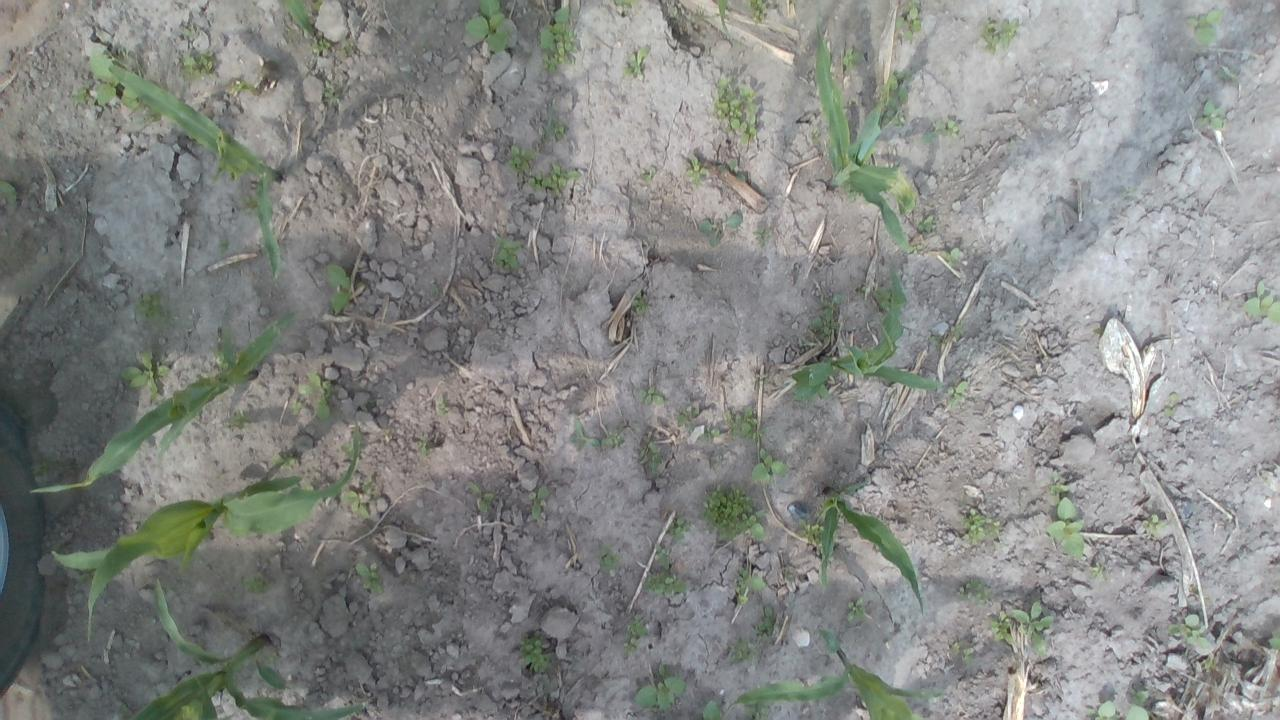Maize: (49, 427, 362, 652), (27, 311, 296, 493), (106, 62, 286, 279), (124, 577, 367, 720), (786, 264, 949, 402), (812, 25, 910, 252), (724, 626, 915, 720), (814, 488, 924, 614), (282, 0, 316, 38), (282, 0, 314, 28), (716, 0, 732, 31)
Weeds: (701, 485, 762, 542), (714, 70, 758, 144), (538, 6, 580, 71), (120, 348, 170, 402), (1048, 495, 1086, 561), (466, 1, 512, 50), (1171, 614, 1216, 658), (1012, 604, 1050, 650), (1086, 693, 1150, 720), (634, 676, 684, 710), (300, 371, 334, 420), (958, 507, 998, 546), (528, 164, 584, 191), (1245, 280, 1280, 322), (981, 18, 1018, 56), (90, 52, 116, 104), (329, 264, 354, 316), (699, 214, 742, 244), (736, 568, 768, 608), (1186, 8, 1222, 43), (646, 565, 686, 594), (896, 0, 922, 41), (726, 407, 760, 438), (753, 448, 784, 481), (496, 233, 526, 267), (354, 562, 384, 593), (1194, 102, 1226, 130), (466, 482, 494, 514), (571, 420, 598, 452), (518, 632, 544, 664), (1048, 468, 1069, 506), (625, 45, 649, 78), (138, 294, 166, 322), (882, 72, 907, 103), (640, 446, 668, 473), (506, 146, 534, 172), (342, 490, 372, 514), (933, 116, 961, 141), (529, 484, 548, 520), (809, 316, 840, 336), (990, 610, 1010, 640), (949, 380, 970, 408), (970, 581, 994, 605), (946, 640, 974, 660), (686, 154, 706, 182), (636, 386, 662, 407), (730, 640, 750, 667), (33, 455, 56, 478), (224, 413, 249, 434), (798, 519, 823, 540), (1142, 514, 1168, 534), (755, 606, 775, 632), (625, 614, 648, 636), (272, 452, 303, 468), (228, 79, 256, 95), (600, 546, 620, 568), (184, 56, 202, 80), (751, 0, 769, 22), (246, 576, 268, 594), (631, 295, 652, 313), (841, 47, 858, 69), (676, 406, 693, 428), (436, 391, 452, 414), (703, 701, 722, 720), (1164, 390, 1178, 415), (602, 432, 622, 449), (820, 292, 841, 308), (418, 436, 434, 457), (848, 596, 862, 620), (918, 215, 936, 233), (0, 180, 16, 200), (944, 248, 961, 266), (1088, 561, 1104, 579), (242, 194, 259, 210), (324, 80, 338, 99), (879, 284, 890, 308), (672, 519, 690, 533), (702, 424, 719, 438), (637, 168, 654, 182), (122, 90, 136, 105), (553, 125, 567, 140), (1269, 635, 1280, 651), (290, 397, 300, 414), (959, 582, 972, 595), (316, 36, 328, 50), (653, 544, 665, 557), (76, 88, 86, 103), (380, 432, 394, 442), (949, 326, 962, 336), (922, 131, 932, 144), (622, 642, 638, 650), (203, 59, 212, 71), (221, 238, 231, 248), (614, 0, 629, 6)
